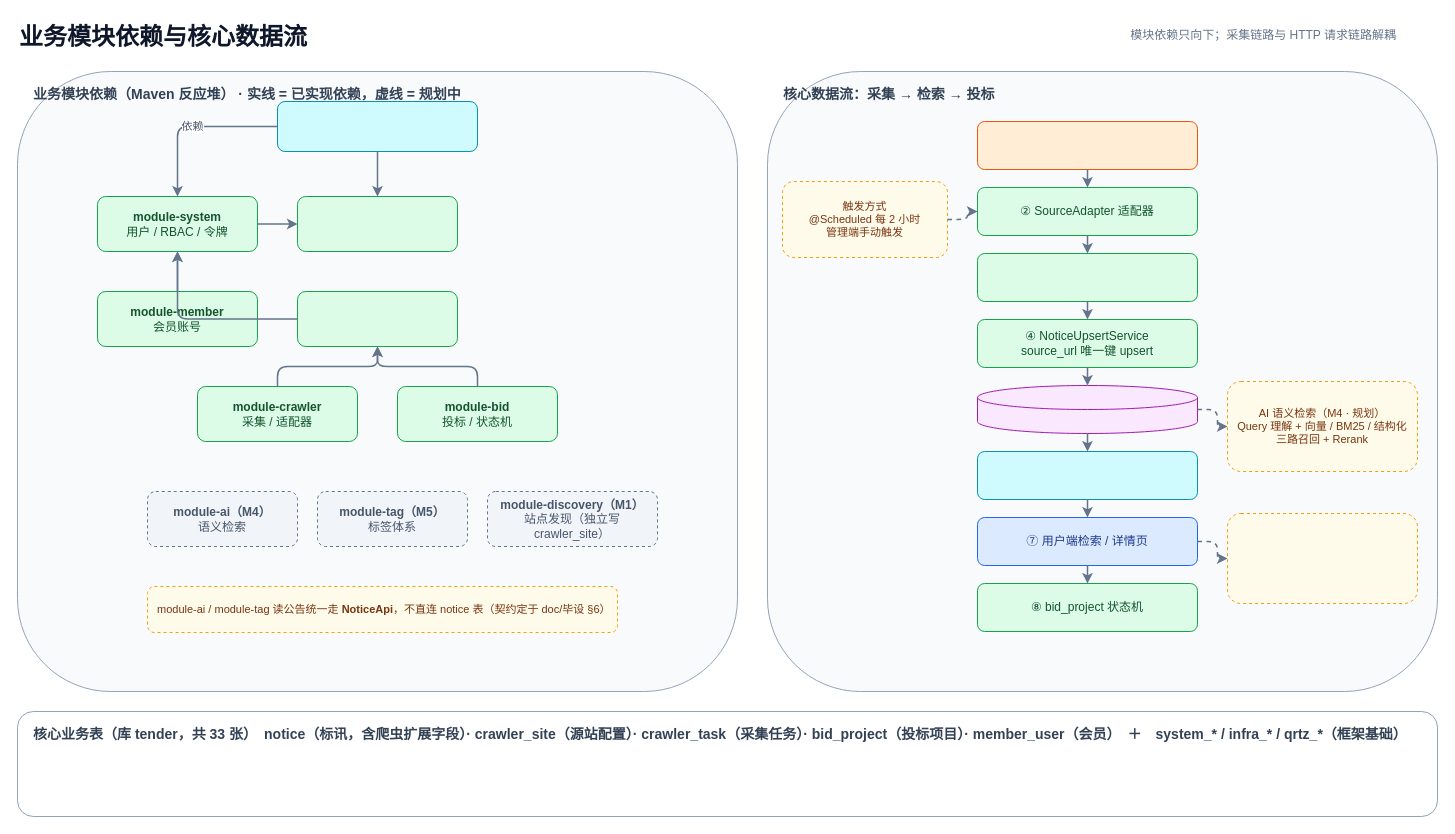
Some shapes in this 1455 by 834 pixel diagram are drawn without their labels. Each missing label, with the centre of its shape:
LLM 写标书（规划） notice 作为 Prompt 上下文 知识库 RAG → 生成投标书: (1322,558)
module-infra 配置 / 文件 / 定时: (377,224)
module-notice 公告 + 门户查询: (377,318)
tender-server 启动容器 · 聚合全部模块: (377,126)
① 源站 ccgp / ggzy: (1087,145)
③ 解析归一 + 去重判定: (1087,277)
⑤ MySQL · notice 表: (1087,409)
⑥ NoticePortal API /admin-api/notice/**: (1087,475)
